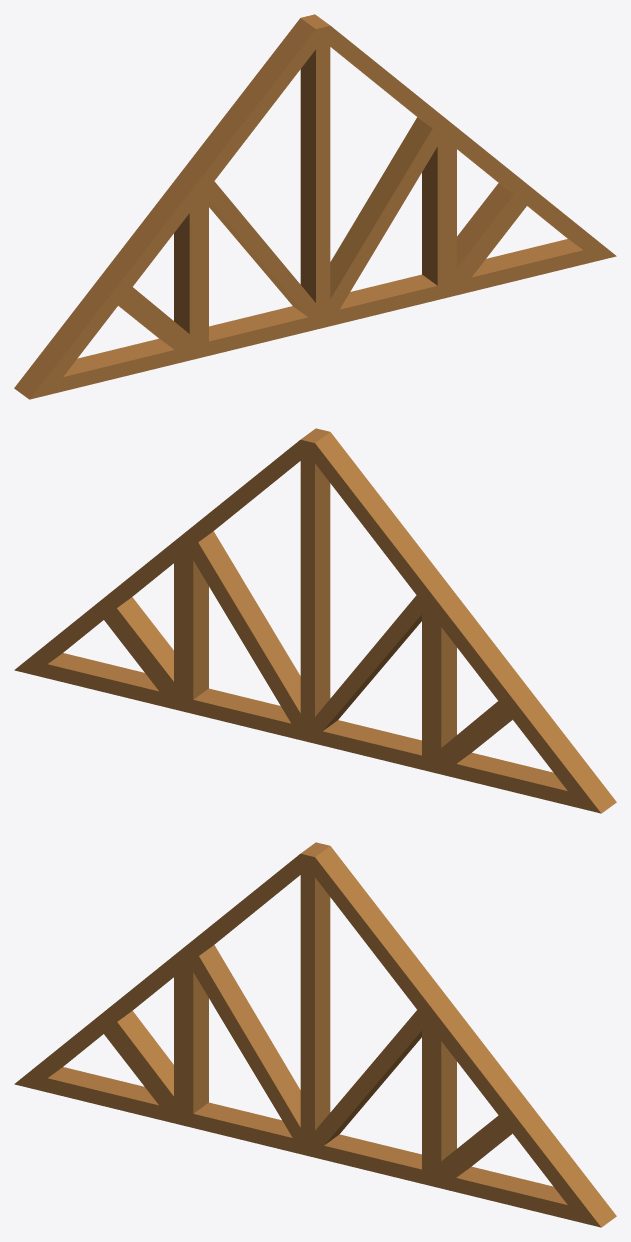
The picture shows the model from 3 angles, top to bottom: view 1: azimuth 30°, elevation 25°; view 2: azimuth 150°, elevation 25°; view 3: azimuth 330°, elevation 25°; orthographic projection.
Parts seen in each view (by area): view 1: I-19; view 2: I-19; view 3: I-19.
Boxes of the visible parts, left/top/right/bottom form: I-19: left=14, top=14, right=616, bottom=399; I-19: left=14, top=428, right=616, bottom=813; I-19: left=14, top=842, right=616, bottom=1227.
Size of the model in its own units: 1264 by 618 by 57.65.
